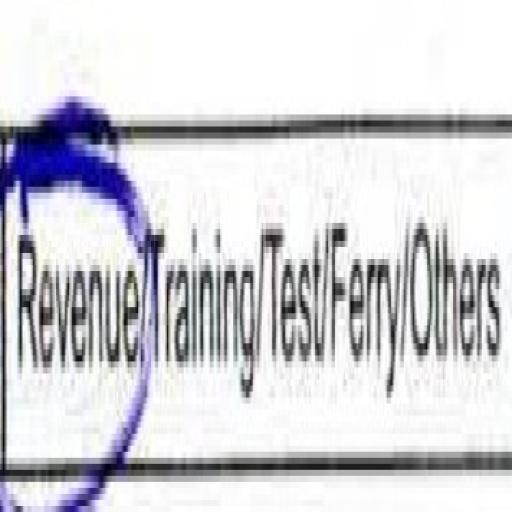check: (0, 54, 148, 512)
